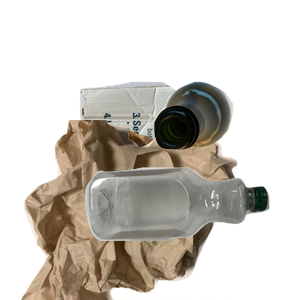cardboard: (77, 79, 251, 227)
glass: (151, 79, 300, 221)
plastic: (83, 165, 300, 300)
trash: (19, 120, 249, 300)
